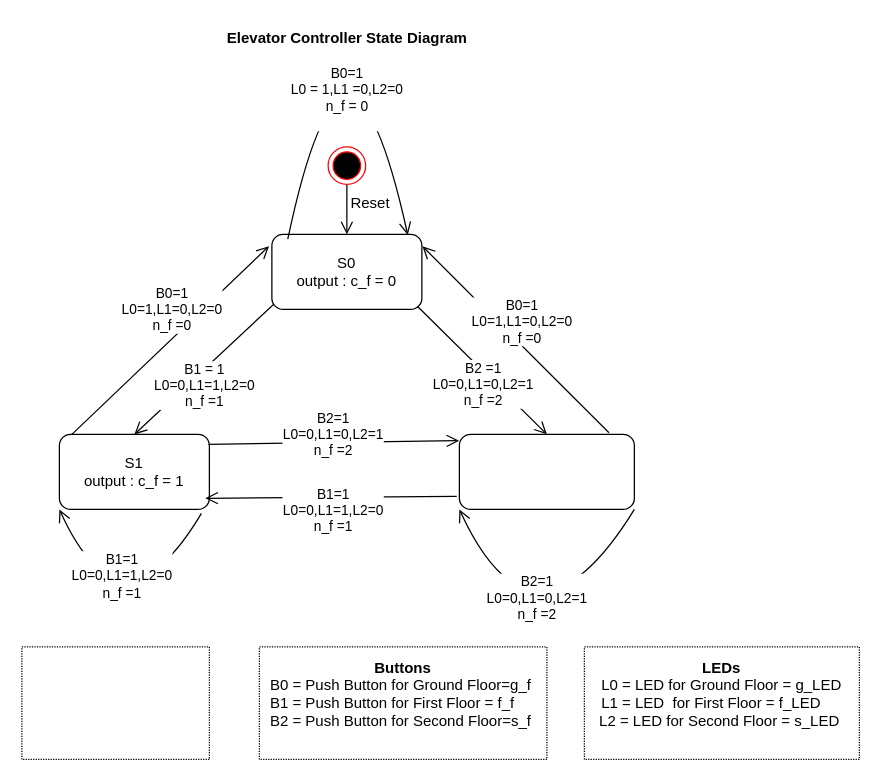
The diagram is 881 pixels wide and 781 high, and some of its shapes have lost their labels. The shapes that lost their labels are listed below. From the top down, each one's centre as x and y in pixels, then its label:
At point (546, 471): "S2 output : c_f = 2".
At point (115, 702): "States S0 =Ground Floor S1 = First Floor S2 = Second Floor".
